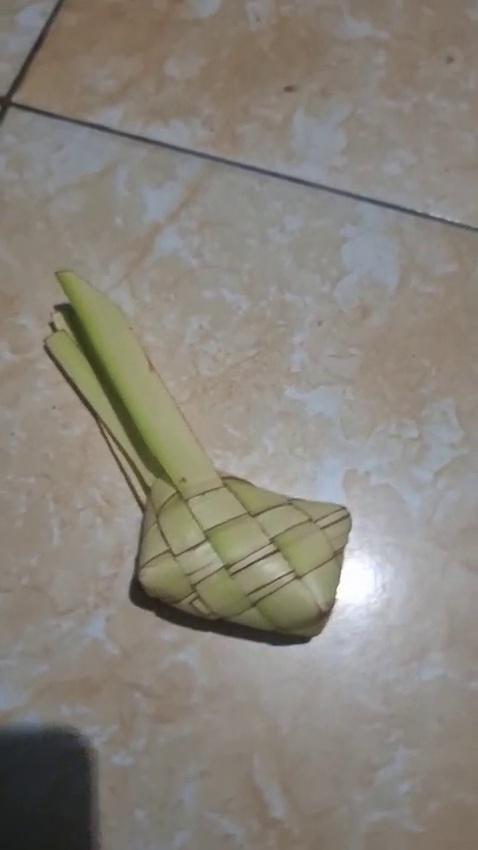Tipat Bantal: (41, 263, 364, 653)
